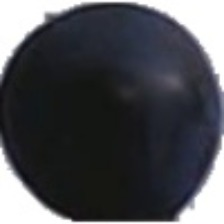grapes: (34, 59, 203, 209)
